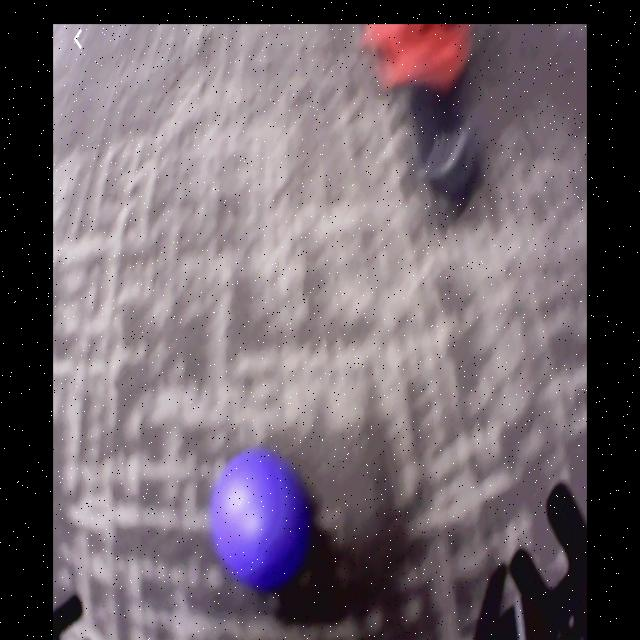ball: (213, 457, 304, 589)
